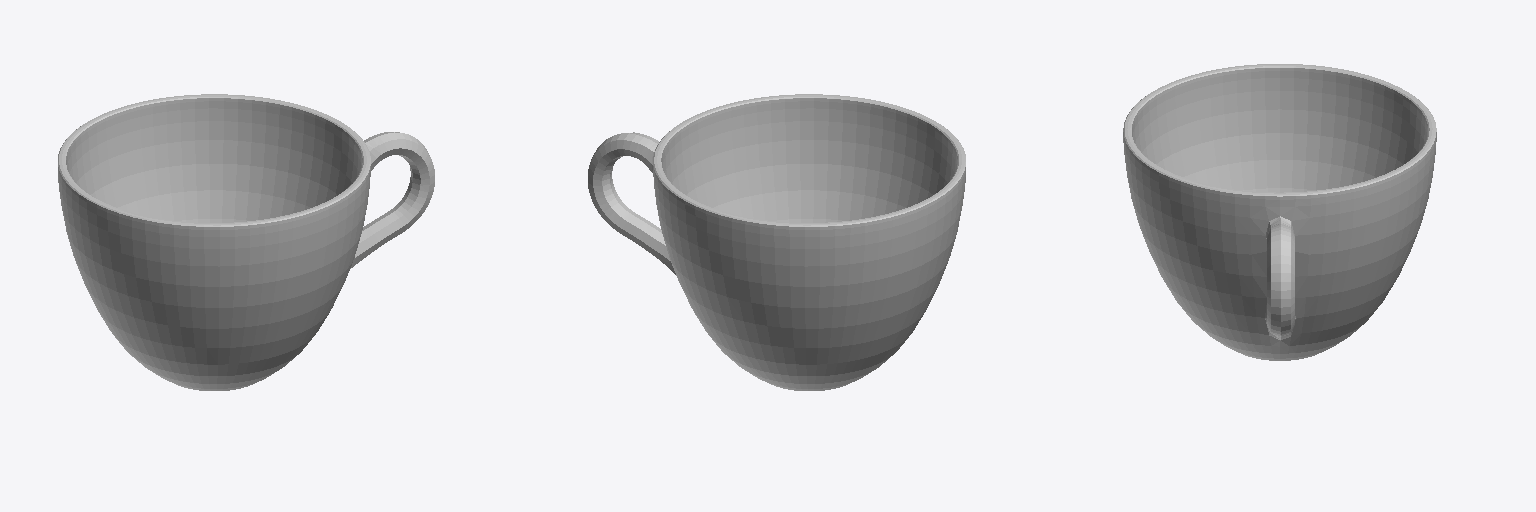
Rendered from mug.obj.
3 renders of one model, left to right at view 1: azimuth 30°, elevation 25°; view 2: azimuth 150°, elevation 25°; view 3: azimuth 270°, elevation 25°, orthographic.
Visible parts, largest first — view 1: cup_Cylinder; view 2: cup_Cylinder; view 3: cup_Cylinder.
Part boxes in pixels (left/top/right/bottom): cup_Cylinder: left=58, top=94, right=434, bottom=390; cup_Cylinder: left=588, top=94, right=965, bottom=390; cup_Cylinder: left=1123, top=64, right=1436, bottom=360.
Bounding box in the file's own units: 0.1809 × 0.1037 × 0.1384.